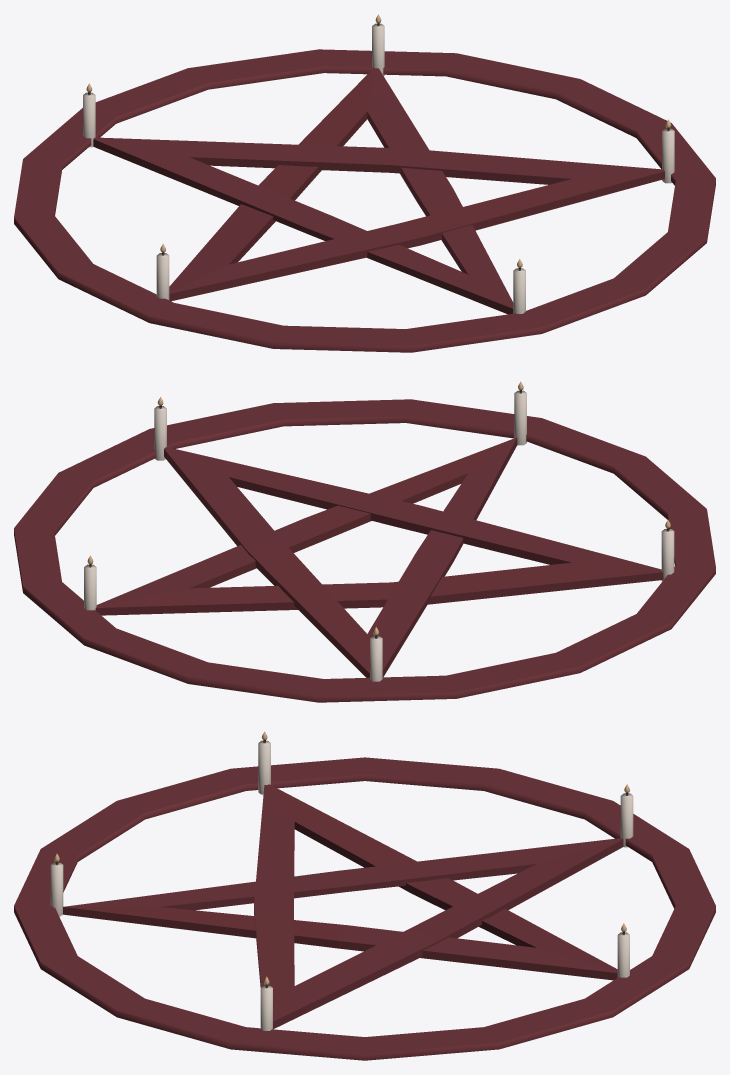
The model's file is Pentagram.fbx.
The picture shows the model from 3 angles, top to bottom: view 1: azimuth 30°, elevation 25°; view 2: azimuth 150°, elevation 25°; view 3: azimuth 270°, elevation 25°; orthographic projection.
Parts seen in each view (by area): view 1: Pentagram; view 2: Pentagram; view 3: Pentagram.
Boxes of the visible parts, x1,y1,x2,y2 form: Pentagram: (14,14,715,352); Pentagram: (14,381,715,702); Pentagram: (14,731,715,1060).
Size of the model in its own units: 200 by 20.45 by 200.
